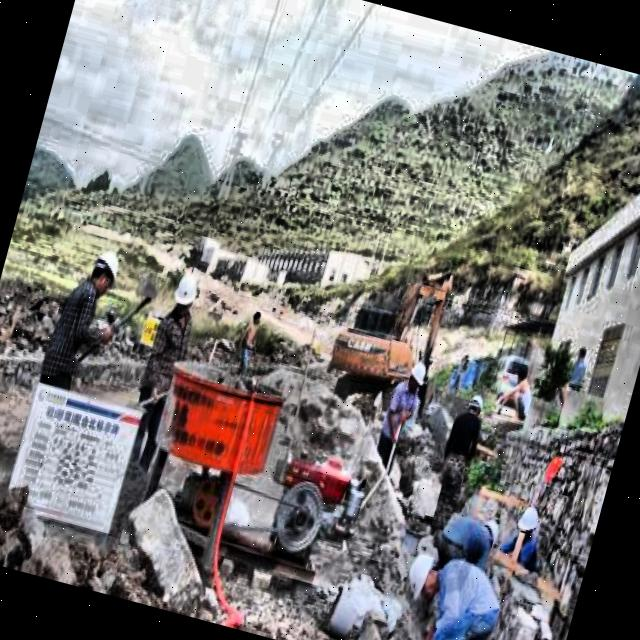helmet: (396, 545, 446, 607), (82, 243, 125, 304), (166, 266, 206, 330), (514, 508, 540, 548), (402, 361, 428, 397), (463, 394, 485, 424)
